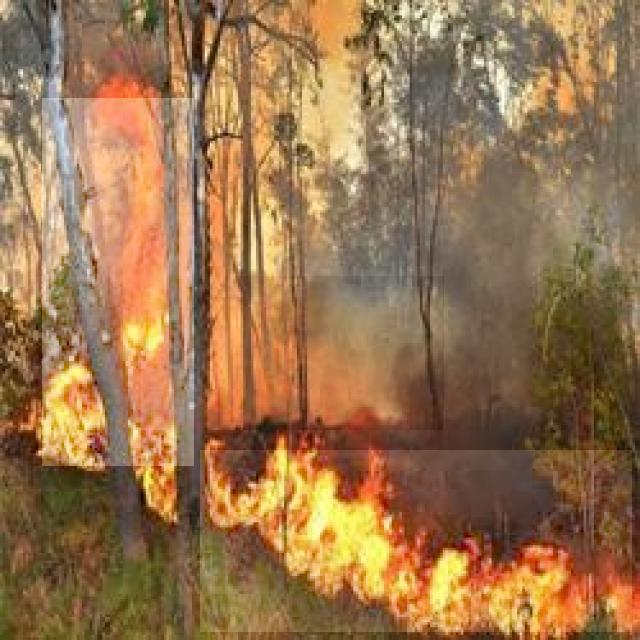Fire: (200, 450, 632, 632), (42, 98, 194, 466)
Smoke: (236, 276, 444, 430)
